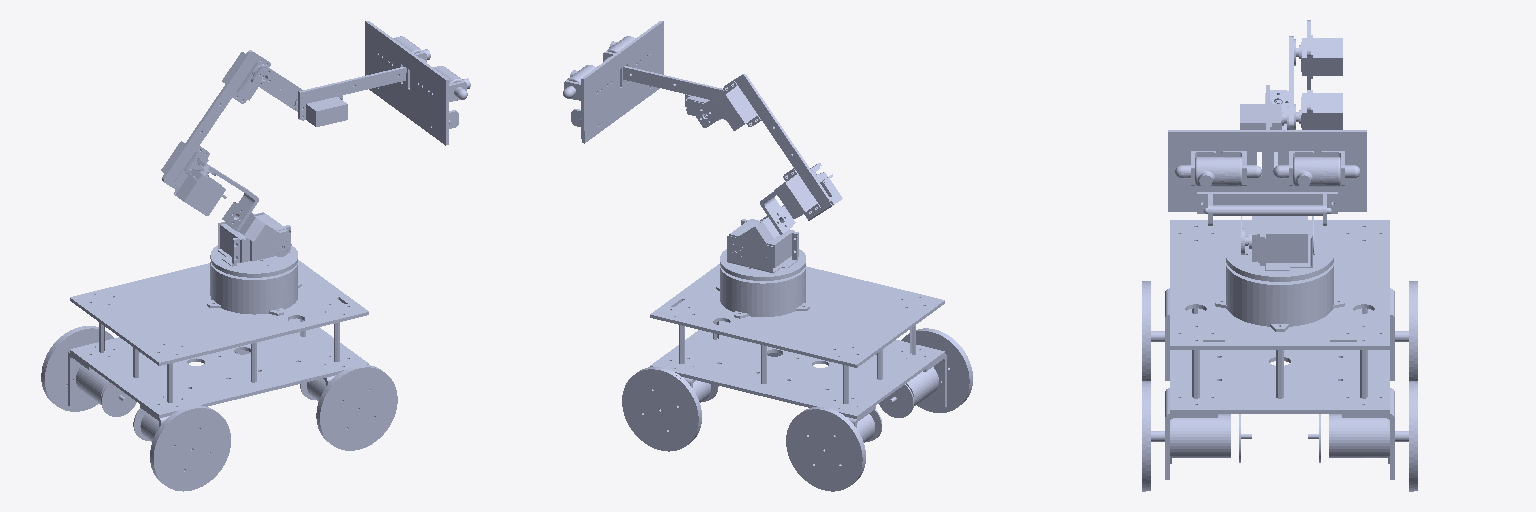
URDF robot description (exa_robot16):
<?xml version="1.0" ?>
<robot
  name="exa_robot16">
  <link
    name="base">
    <inertial>
      <origin
        xyz="0.038421 0.0003776 0.0090828"
        rpy="0 0 0" />
      <mass
        value="1.9269" />
      <inertia
        ixx="0.036287"
        ixy="0.00061599"
        ixz="-0.013209"
        iyy="0.050613"
        iyz="-2.4823E-05"
        izz="0.032024" />
    </inertial>
    <visual>
      <origin
        xyz="0 0 0"
        rpy="0 0 0" />
      <geometry>
        <mesh
          filename="package://exa_robot16/meshes/base.stl" />
      </geometry>
      <material
        name="">
        <color
          rgba="0.79216 0.81961 0.93333 1" />
      </material>
    </visual>
    <collision>
      <origin
        xyz="0 0 0"
        rpy="0 0 0" />
      <geometry>
        <mesh
          filename="package://exa_robot16/meshes/base.stl" />
      </geometry>
    </collision>
  </link>
  <link
    name="motor1">
    <inertial>
      <origin
        xyz="-0.06967 0.10436 0.11208"
        rpy="0 0 0" />
      <mass
        value="1.9269" />
      <inertia
        ixx="0.036287"
        ixy="0.00061599"
        ixz="-0.013209"
        iyy="0.050613"
        iyz="-2.4823E-05"
        izz="0.032024" />
    </inertial>
    <visual>
      <origin
        xyz="0 0 0"
        rpy="0 0 0" />
      <geometry>
        <mesh
          filename="package://exa_robot16/meshes/motor1.stl" />
      </geometry>
      <material
        name="">
        <color
          rgba="0.79216 0.81961 0.93333 1" />
      </material>
    </visual>
    <collision>
      <origin
        xyz="0 0 0"
        rpy="0 0 0" />
      <geometry>
        <mesh
          filename="package://exa_robot16/meshes/motor1.stl" />
      </geometry>
    </collision>
  </link>
  <joint
    name="pjoint1"
    type="continuous">
    <origin
      xyz="0.10809 -0.10398 -0.103"
      rpy="0 0 0" />
    <parent
      link="base" />
    <child
      link="motor1" />
    <axis
      xyz="0 -1 0" />
    <limit
      effort="100"
      velocity="10" />
  </joint>
  <link
    name="motor2">
    <inertial>
      <origin
        xyz="-0.06967 -0.10364 0.11208"
        rpy="0 0 0" />
      <mass
        value="1.9269" />
      <inertia
        ixx="0.036287"
        ixy="0.00061599"
        ixz="-0.013209"
        iyy="0.050613"
        iyz="-2.4823E-05"
        izz="0.032024" />
    </inertial>
    <visual>
      <origin
        xyz="0 0 0"
        rpy="0 0 0" />
      <geometry>
        <mesh
          filename="package://exa_robot16/meshes/motor2.stl" />
      </geometry>
      <material
        name="">
        <color
          rgba="0.79216 0.81961 0.93333 1" />
      </material>
    </visual>
    <collision>
      <origin
        xyz="0 0 0"
        rpy="0 0 0" />
      <geometry>
        <mesh
          filename="package://exa_robot16/meshes/motor2.stl" />
      </geometry>
    </collision>
  </link>
  <joint
    name="pjoint2"
    type="continuous">
    <origin
      xyz="0.10809 0.10402 -0.103"
      rpy="0 -2.9721E-58 8.5125E-44" />
    <parent
      link="base" />
    <child
      link="motor2" />
    <axis
      xyz="0 1 0" />
    <limit
      effort="100"
      velocity="10" />
  </joint>
  <link
    name="motor3">
    <inertial>
      <origin
        xyz="0.14433 0.10436 0.11208"
        rpy="0 0 0" />
      <mass
        value="1.9269" />
      <inertia
        ixx="0.036287"
        ixy="0.00061599"
        ixz="-0.013209"
        iyy="0.050613"
        iyz="-2.4823E-05"
        izz="0.032024" />
    </inertial>
    <visual>
      <origin
        xyz="0 0 0"
        rpy="0 0 0" />
      <geometry>
        <mesh
          filename="package://exa_robot16/meshes/motor3.stl" />
      </geometry>
      <material
        name="">
        <color
          rgba="0.79216 0.81961 0.93333 1" />
      </material>
    </visual>
    <collision>
      <origin
        xyz="0 0 0"
        rpy="0 0 0" />
      <geometry>
        <mesh
          filename="package://exa_robot16/meshes/motor3.stl" />
      </geometry>
    </collision>
  </link>
  <joint
    name="pjoint3"
    type="continuous">
    <origin
      xyz="-0.10591 -0.10398 -0.103"
      rpy="0 0 0" />
    <parent
      link="base" />
    <child
      link="motor3" />
    <axis
      xyz="0 -1 0" />
    <limit
      effort="100"
      velocity="10" />
  </joint>
  <link
    name="motor4">
    <inertial>
      <origin
        xyz="0.14433 -0.10364 0.11208"
        rpy="0 0 0" />
      <mass
        value="1.9269" />
      <inertia
        ixx="0.036287"
        ixy="0.00061599"
        ixz="-0.013209"
        iyy="0.050613"
        iyz="-2.4823E-05"
        izz="0.032024" />
    </inertial>
    <visual>
      <origin
        xyz="0 0 0"
        rpy="0 0 0" />
      <geometry>
        <mesh
          filename="package://exa_robot16/meshes/motor4.stl" />
      </geometry>
      <material
        name="">
        <color
          rgba="0.79216 0.81961 0.93333 1" />
      </material>
    </visual>
    <collision>
      <origin
        xyz="0 0 0"
        rpy="0 0 0" />
      <geometry>
        <mesh
          filename="package://exa_robot16/meshes/motor4.stl" />
      </geometry>
    </collision>
  </link>
  <joint
    name="pjoint4"
    type="continuous">
    <origin
      xyz="-0.10591 0.10402 -0.103"
      rpy="0 0 0" />
    <parent
      link="base" />
    <child
      link="motor4" />
    <axis
      xyz="0 1 0" />
    <limit
      effort="100"
      velocity="10" />
  </joint>
  <link
    name="link1">
    <inertial>
      <origin
        xyz="-0.0076705 0.00036066 -0.041042"
        rpy="0 0 0" />
      <mass
        value="1.9269" />
      <inertia
        ixx="0.036287"
        ixy="0.00061599"
        ixz="-0.013209"
        iyy="0.050613"
        iyz="-2.4823E-05"
        izz="0.032024" />
    </inertial>
    <visual>
      <origin
        xyz="0 0 0"
        rpy="0 0 0" />
      <geometry>
        <mesh
          filename="package://exa_robot16/meshes/link1.stl" />
      </geometry>
      <material
        name="">
        <color
          rgba="0.79216 0.81961 0.93333 1" />
      </material>
    </visual>
    <collision>
      <origin
        xyz="0 0 0"
        rpy="0 0 0" />
      <geometry>
        <mesh
          filename="package://exa_robot16/meshes/link1.stl" />
      </geometry>
    </collision>
  </link>
  <joint
    name="joint1"
    type="revolute">
    <origin
      xyz="0.046091 1.6943E-05 0.050125"
      rpy="0 -2.9721E-58 8.5125E-44" />
    <parent
      link="base" />
    <child
      link="link1" />
    <axis
      xyz="0 0 1" />
    <limit
      lower="-1.5708"
      upper="1.5708"
      effort="0.33"
      velocity="4.96" />
  </joint>
  <link
    name="link2">
    <inertial>
      <origin
        xyz="-0.02317 0.029351 -0.061042"
        rpy="0 0 0" />
      <mass
        value="1.9269" />
      <inertia
        ixx="0.036287"
        ixy="0.00061599"
        ixz="-0.013209"
        iyy="0.050613"
        iyz="-2.4823E-05"
        izz="0.032024" />
    </inertial>
    <visual>
      <origin
        xyz="0 0 0"
        rpy="0 0 0" />
      <geometry>
        <mesh
          filename="package://exa_robot16/meshes/link2.stl" />
      </geometry>
      <material
        name="">
        <color
          rgba="0.79216 0.81961 0.93333 1" />
      </material>
    </visual>
    <collision>
      <origin
        xyz="0 0 0"
        rpy="0 0 0" />
      <geometry>
        <mesh
          filename="package://exa_robot16/meshes/link2.stl" />
      </geometry>
    </collision>
  </link>
  <joint
    name="joint2"
    type="revolute">
    <origin
      xyz="0.0155 -0.02899 0.02"
      rpy="0 0 -8.5125E-44" />
    <parent
      link="link1" />
    <child
      link="link2" />
    <axis
      xyz="0 1 0" />
    <limit
      lower="0"
      upper="2.44"
      effort="1.1"
      velocity="374" />
  </joint>
  <link
    name="link3">
    <inertial>
      <origin
        xyz="0.057035 0.0019364 -0.15837"
        rpy="0 0 0" />
      <mass
        value="1.9269" />
      <inertia
        ixx="0.036287"
        ixy="0.00061599"
        ixz="-0.013209"
        iyy="0.050613"
        iyz="-2.4823E-05"
        izz="0.032024" />
    </inertial>
    <visual>
      <origin
        xyz="0 0 0"
        rpy="0 0 0" />
      <geometry>
        <mesh
          filename="package://exa_robot16/meshes/link3.stl" />
      </geometry>
      <material
        name="">
        <color
          rgba="0.79216 0.81961 0.93333 1" />
      </material>
    </visual>
    <collision>
      <origin
        xyz="0 0 0"
        rpy="0 0 0" />
      <geometry>
        <mesh
          filename="package://exa_robot16/meshes/link3.stl" />
      </geometry>
    </collision>
  </link>
  <joint
    name="joint3"
    type="revolute">
    <origin
      xyz="-0.080205 0.027414 0.097325"
      rpy="0 -2.9721E-58 8.5125E-44" />
    <parent
      link="link2" />
    <child
      link="link3" />
    <axis
      xyz="-0.64279 0 -0.76604" />
    <limit
      lower="-1.5708"
      upper="1.5708"
      effort="0.77"
      velocity="4.363" />
  </joint>
  <link
    name="link4">
    <inertial>
      <origin
        xyz="0.066803 -0.014031 -0.14335"
        rpy="0 0 0" />
      <mass
        value="1.9269" />
      <inertia
        ixx="0.036287"
        ixy="0.00061599"
        ixz="-0.013209"
        iyy="0.050613"
        iyz="-2.4823E-05"
        izz="0.032024" />
    </inertial>
    <visual>
      <origin
        xyz="0 0 0"
        rpy="0 0 0" />
      <geometry>
        <mesh
          filename="package://exa_robot16/meshes/link4.stl" />
      </geometry>
      <material
        name="">
        <color
          rgba="0.79216 0.81961 0.93333 1" />
      </material>
    </visual>
    <collision>
      <origin
        xyz="0 0 0"
        rpy="0 0 0" />
      <geometry>
        <mesh
          filename="package://exa_robot16/meshes/link4.stl" />
      </geometry>
    </collision>
  </link>
  <joint
    name="joint4"
    type="revolute">
    <origin
      xyz="-0.0097677 0.015967 -0.015013"
      rpy="0 0 -8.5125E-44" />
    <parent
      link="link3" />
    <child
      link="link4" />
    <axis
      xyz="0 -1 0" />
    <limit
      lower="-1.5708"
      upper="1.5708"
      effort="0.77"
      velocity="4.363" />
  </joint>
  <link
    name="link5">
    <inertial>
      <origin
        xyz="-0.025731 -0.017031 -0.25102"
        rpy="0 0 0" />
      <mass
        value="1.9269" />
      <inertia
        ixx="0.036287"
        ixy="0.00061599"
        ixz="-0.013209"
        iyy="0.050613"
        iyz="-2.4823E-05"
        izz="0.032024" />
    </inertial>
    <visual>
      <origin
        xyz="0 0 0"
        rpy="0 0 0" />
      <geometry>
        <mesh
          filename="package://exa_robot16/meshes/link5.stl" />
      </geometry>
      <material
        name="">
        <color
          rgba="0.79216 0.81961 0.93333 1" />
      </material>
    </visual>
    <collision>
      <origin
        xyz="0 0 0"
        rpy="0 0 0" />
      <geometry>
        <mesh
          filename="package://exa_robot16/meshes/link5.stl" />
      </geometry>
    </collision>
  </link>
  <joint
    name="joint5"
    type="revolute">
    <origin
      xyz="0.092534 0.003 0.10766"
      rpy="0 0 0" />
    <parent
      link="link4" />
    <child
      link="link5" />
    <axis
      xyz="0 1 0" />
    <limit
      lower="-1.5708"
      upper="1.5708"
      effort="0.77"
      velocity="4.363" />
  </joint>
  <link
    name="link6">
    <inertial>
      <origin
        xyz="-0.075938 -0.0060306 -0.20817"
        rpy="0 0 0" />
      <mass
        value="1.9269" />
      <inertia
        ixx="0.036287"
        ixy="0.00061599"
        ixz="-0.013209"
        iyy="0.050613"
        iyz="-2.4823E-05"
        izz="0.032024" />
    </inertial>
    <visual>
      <origin
        xyz="0 0 0"
        rpy="0 0 0" />
      <geometry>
        <mesh
          filename="package://exa_robot16/meshes/link6.stl" />
      </geometry>
      <material
        name="">
        <color
          rgba="0.79216 0.81961 0.93333 1" />
      </material>
    </visual>
    <collision>
      <origin
        xyz="0 0 0"
        rpy="0 0 0" />
      <geometry>
        <mesh
          filename="package://exa_robot16/meshes/link6.stl" />
      </geometry>
    </collision>
  </link>
  <joint
    name="joint6"
    type="revolute">
    <origin
      xyz="0.050206 -0.011 -0.042841"
      rpy="0 -2.9721E-58 8.5125E-44" />
    <parent
      link="link5" />
    <child
      link="link6" />
    <axis
      xyz="0 1 0" />
    <limit
      lower="-1.5708"
      upper="1.5708"
      effort="0.77"
      velocity="4.363" />
  </joint>
</robot>

--- Facts derived from the render (not from the file) ---
3 views of the same robot in one strip: view 1: azimuth 30°, elevation 25°; view 2: azimuth 150°, elevation 25°; view 3: azimuth 270°, elevation 25° (orthographic).
Model exa_robot16 with 11 links and 10 joints (6 revolute, 4 continuous), rooted at base, posed every joint at zero.
Links seen in each view (by area): view 1: base, link6, motor1, motor3, link4, link1, motor4, link2, link3, link5; view 2: base, link6, motor4, motor2, link4, link1, motor3, link2, link5; view 3: base, link6, link1, link4, motor2, motor1, motor3, motor4, link5, link2.
Link boxes in pixels (<box>): base: <box>68,260,368,441</box>; link6: <box>298,21,470,145</box>; motor1: <box>316,365,397,450</box>; motor3: <box>150,405,230,491</box>; link4: <box>161,50,270,189</box>; link1: <box>210,212,297,277</box>; motor4: <box>41,326,113,411</box>; link2: <box>197,158,291,256</box>; link3: <box>174,168,226,215</box>; link5: <box>251,64,302,111</box>; base: <box>650,264,946,442</box>; link6: <box>563,21,725,143</box>; motor4: <box>786,407,865,491</box>; motor2: <box>622,367,701,451</box>; link4: <box>714,74,830,218</box>; link1: <box>720,219,805,280</box>; motor3: <box>901,328,972,412</box>; link2: <box>728,163,821,259</box>; link5: <box>694,91,725,127</box>; base: <box>1165,220,1394,479</box>; link6: <box>1168,85,1366,225</box>; link1: <box>1226,216,1333,281</box>; link4: <box>1299,20,1342,129</box>; motor2: <box>1395,381,1417,491</box>; motor1: <box>1142,381,1164,491</box>; motor3: <box>1142,281,1164,380</box>; motor4: <box>1395,281,1417,380</box>; link5: <box>1284,36,1298,129</box>; link2: <box>1241,90,1313,254</box>.
Size in the robot's own frame: 0.4379 by 0.25 by 0.441 metres.
11 mesh visuals loaded from 11 distinct referenced files (11 binary STL).